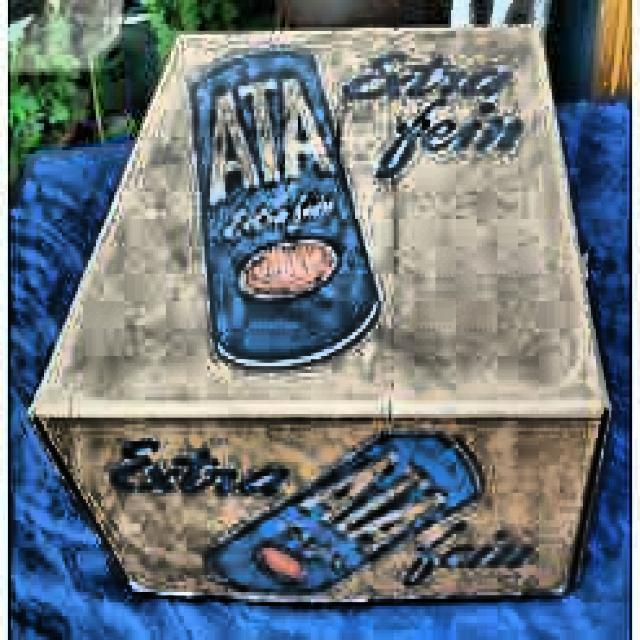cardboard: (26, 20, 612, 602)
